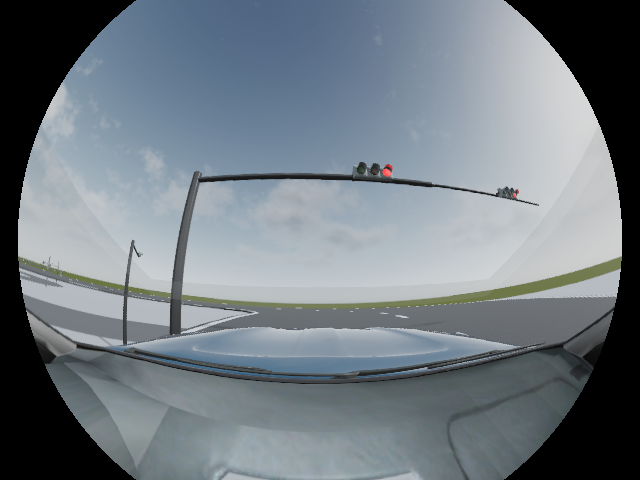Red Light: (351, 160, 394, 182)
